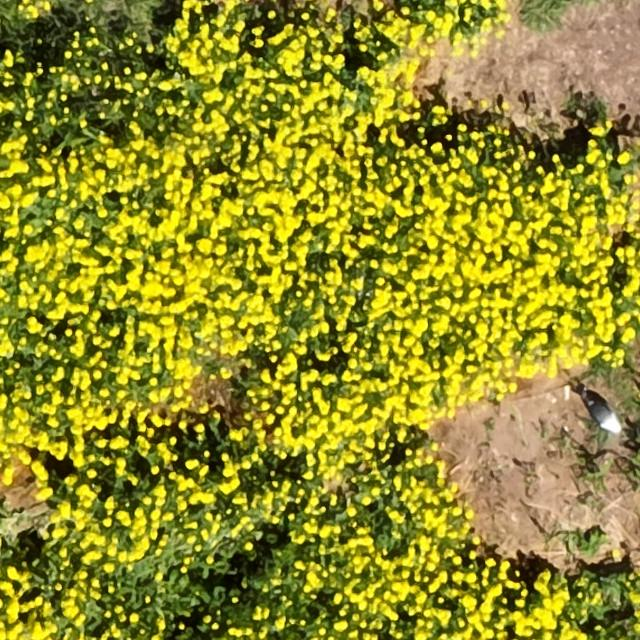umineko: (588, 397, 620, 430)
